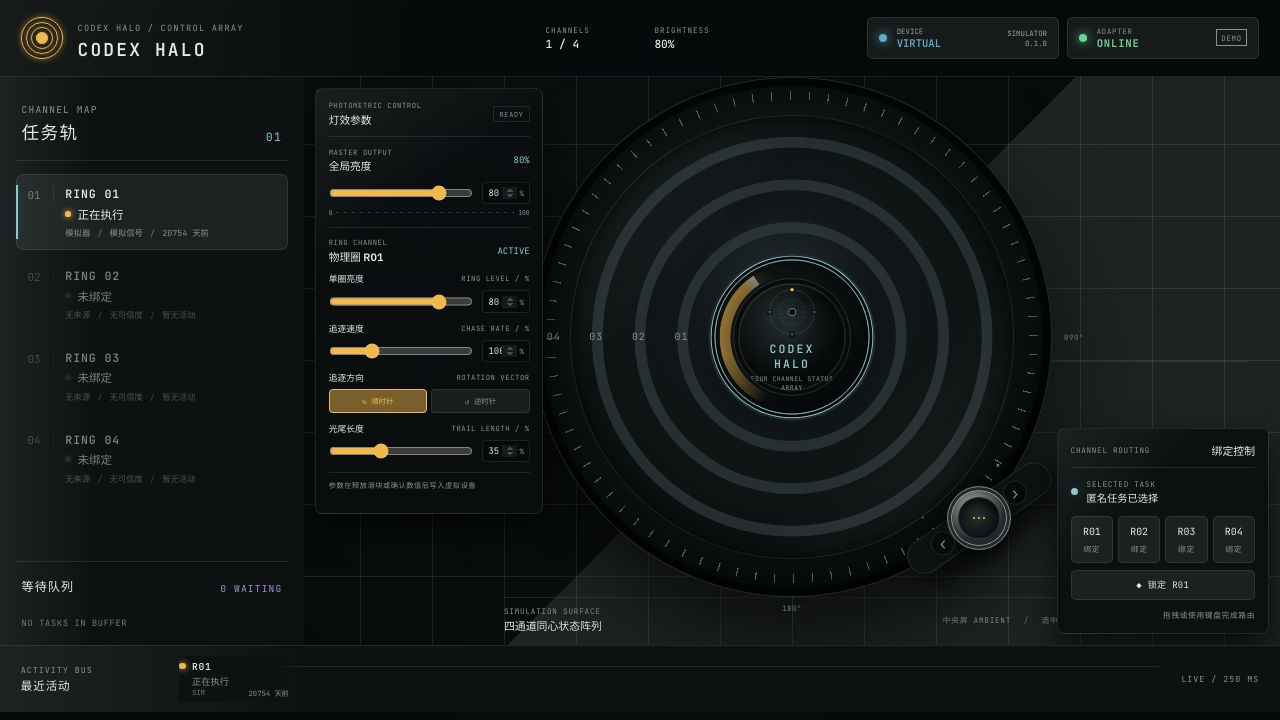
Test: EffectEditor › 高频修改串行合并为最新意图，旧返回不抖动草稿，失败保留快照并显示 Store 错误
This screenshot has width=1280, height=720.
Replace the text in the number field named "追逐速度数值" with "150" at (501, 351), box top-left (483, 341), bottom-right (520, 361)
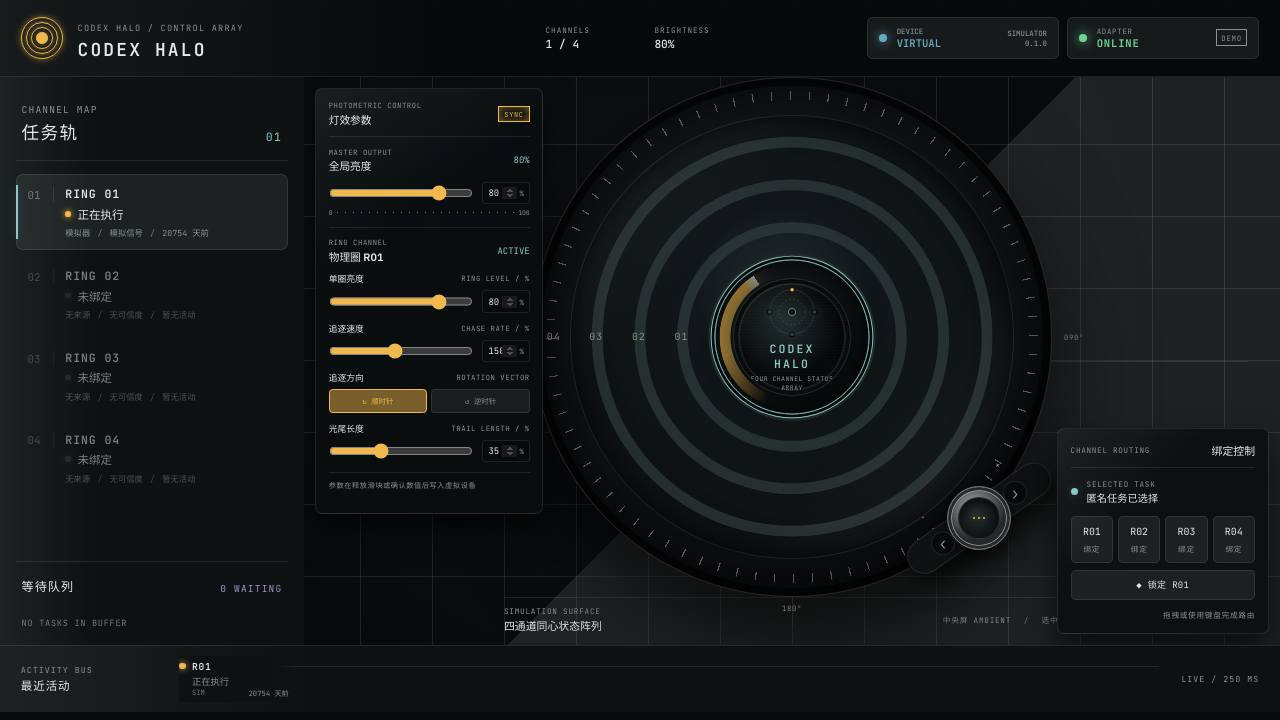
Replace the text in the number field named "追逐速度数值" with "200" at (501, 351), box top-left (483, 341), bottom-right (520, 361)
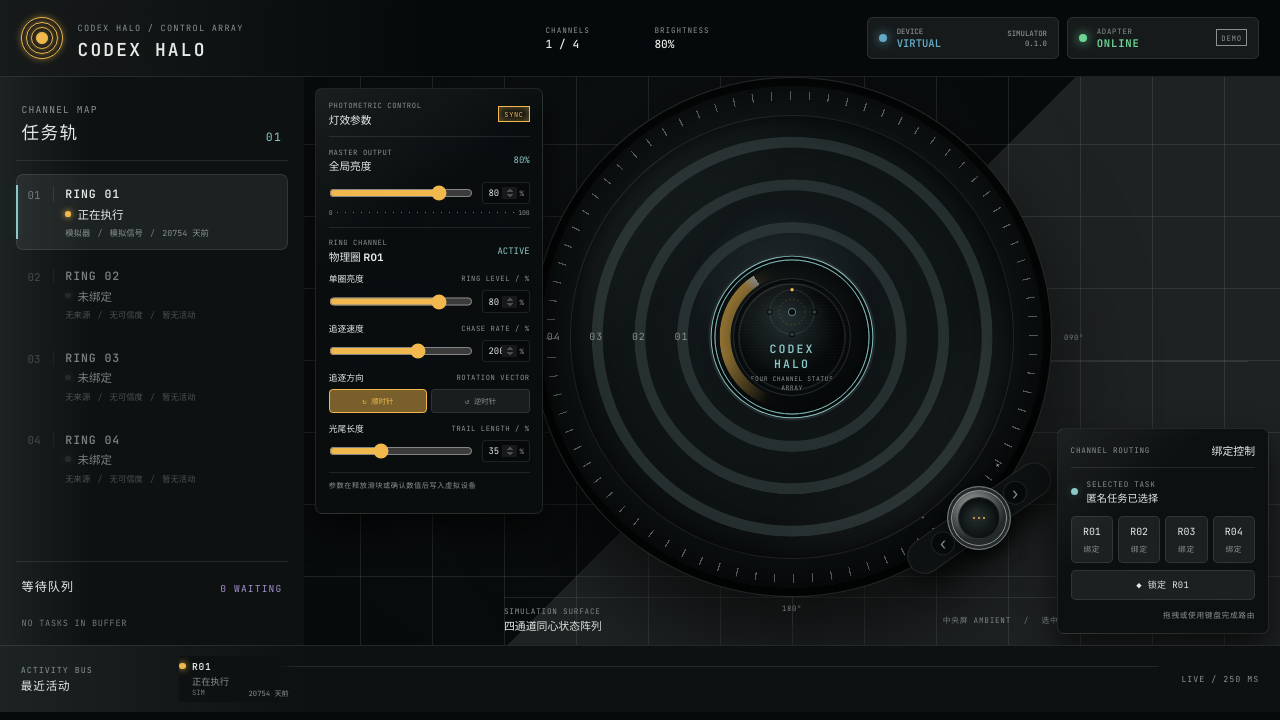
Replace the text in the number field named "追逐速度数值" with "250" at (501, 351), box top-left (483, 341), bottom-right (520, 361)
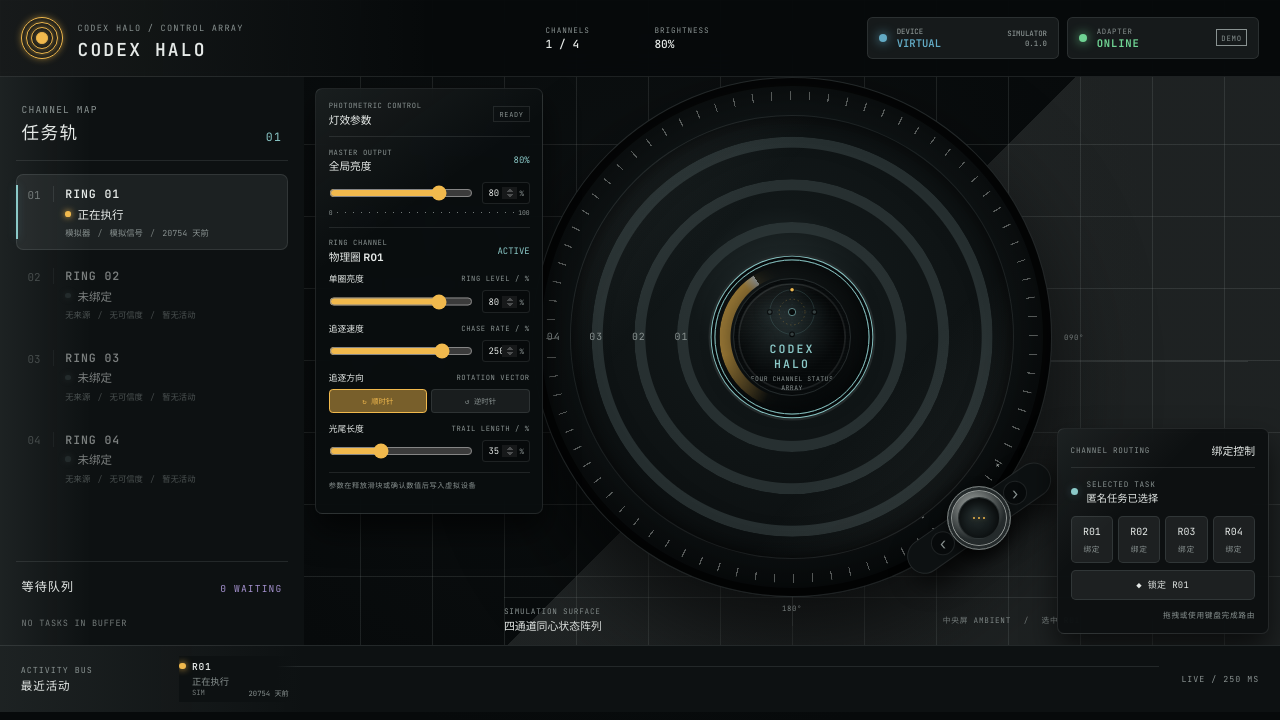
Replace the text in the number field named "追逐速度数值" with "260" at (501, 351), box top-left (483, 341), bottom-right (520, 361)
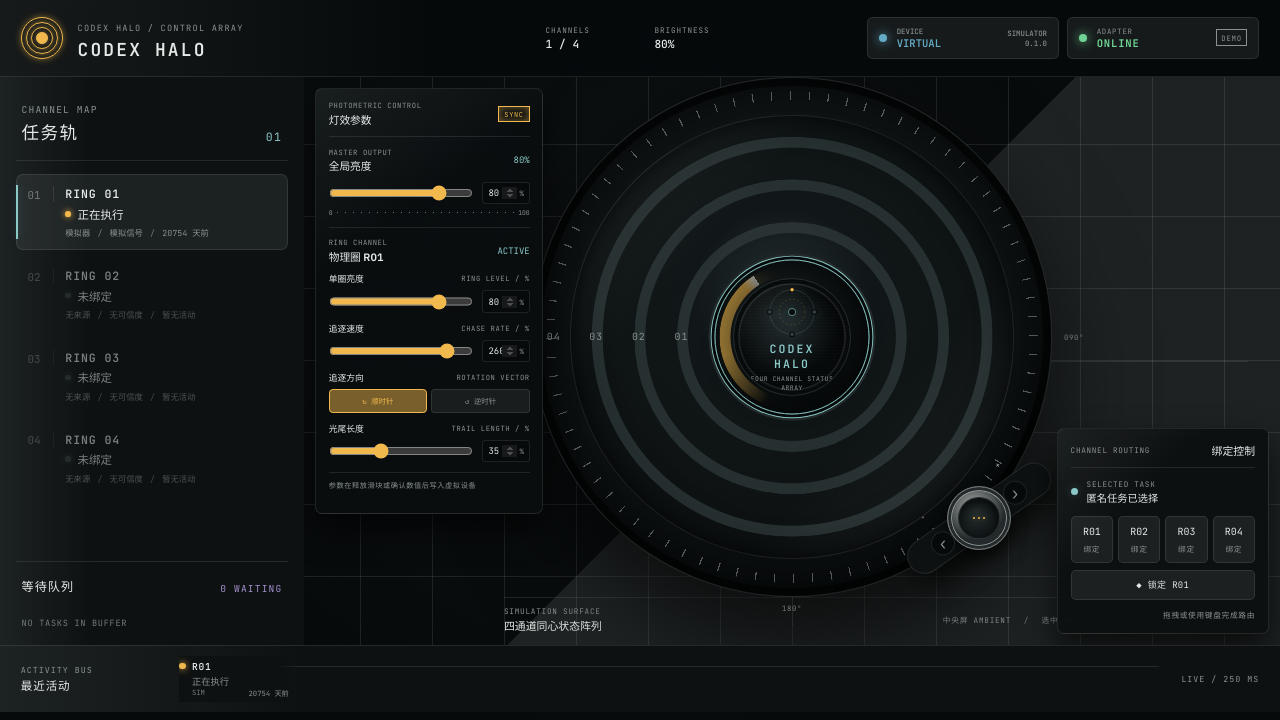
Replace the text in the number field named "追逐速度数值" with "270" at (501, 351), box top-left (483, 341), bottom-right (520, 361)
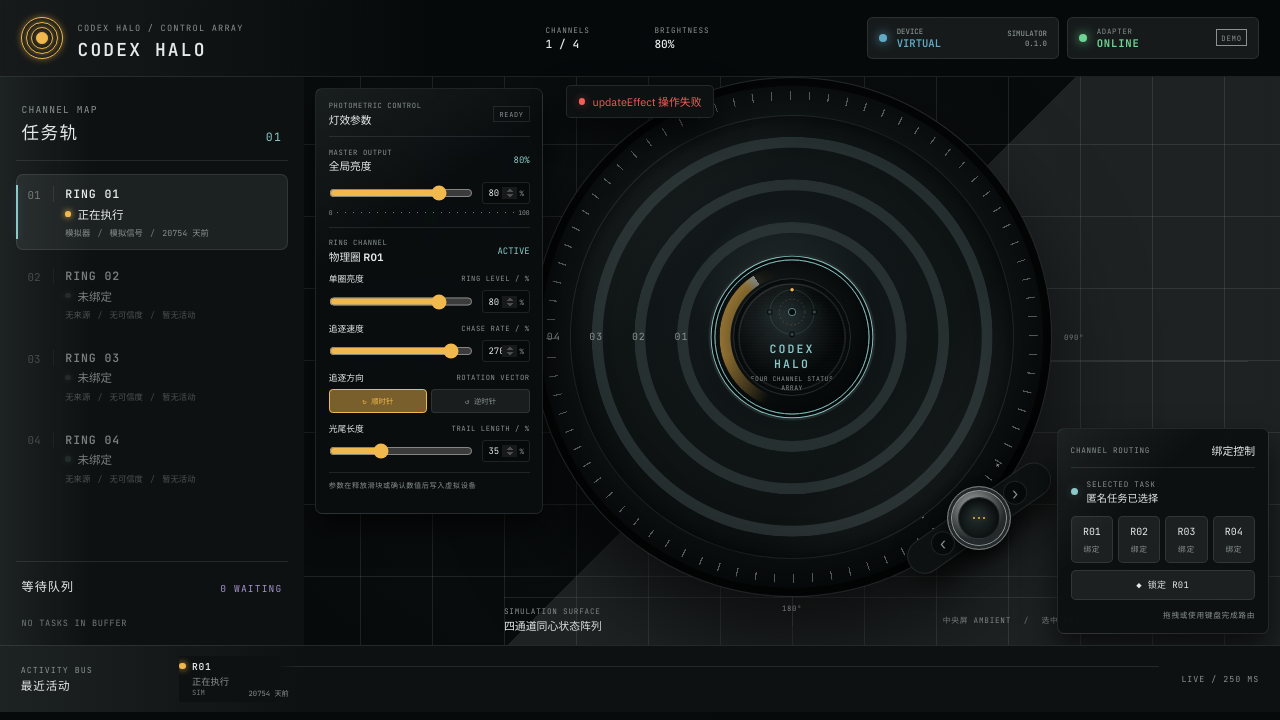
Expected: the message "updateEffect 操作失败" is shown, top-left (566, 85), bottom-right (714, 118)
